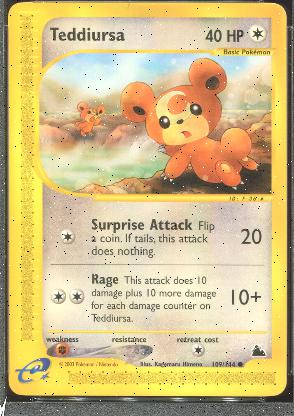Card: (5, 1, 289, 399)
